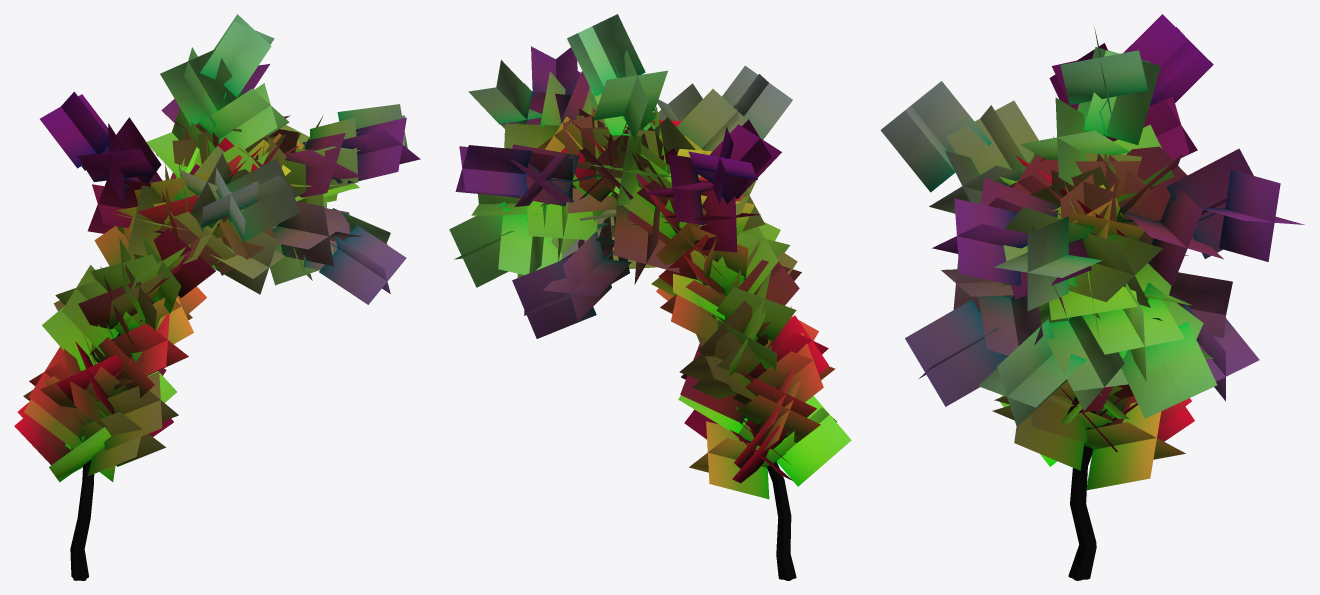
Rendered from URP_P3_Tree_15_LOD_1.fbx.
3 views of the same model, side by side, from view 1: azimuth 30°, elevation 25°; view 2: azimuth 150°, elevation 25°; view 3: azimuth 270°, elevation 25° (orthographic). The views are drawn at different scales.
Parts seen in each view (by area): view 1: Tree_15_LOD_1; view 2: Tree_15_LOD_1; view 3: Tree_15_LOD_1.
Part boxes in pixels (x1=…): Tree_15_LOD_1: x1=14, y1=14, x2=420, y2=580; Tree_15_LOD_1: x1=449, y1=14, x2=851, y2=580; Tree_15_LOD_1: x1=880, y1=14, x2=1304, y2=580.
Size of the model in its own units: 684 by 919 by 544.
